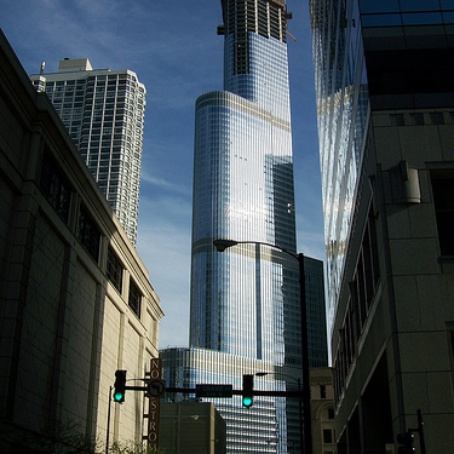building: (162, 1, 329, 449), (6, 83, 182, 454), (316, 1, 454, 446), (12, 48, 156, 241)
sky: (133, 1, 204, 333), (8, 1, 219, 81)
